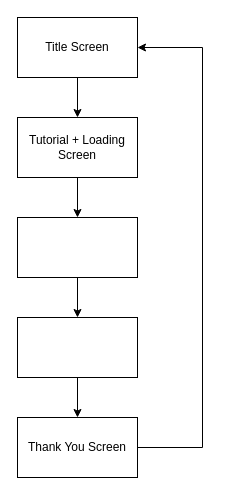
Image size: 228x495. Some labels were removed from this diagram. Each missing label, with the centre of its shape:
"CG Intro" belongs at point 77,247.
"Gameplay" belongs at point 77,347.
